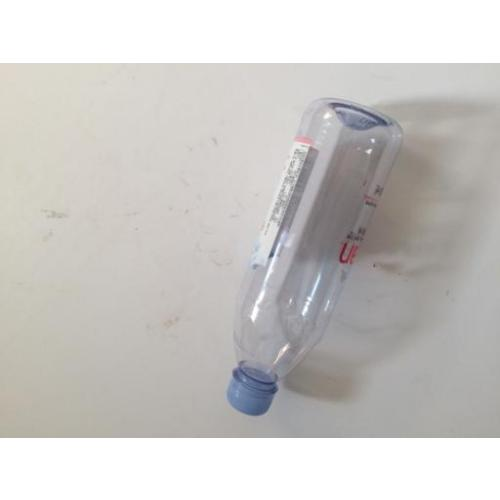plastic: (225, 96, 407, 415)
